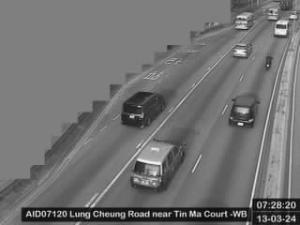bus: (235, 12, 255, 30), (270, 8, 278, 20)
motorbike: (265, 55, 273, 69)
vehicle: (130, 136, 186, 192), (120, 91, 166, 128), (228, 92, 260, 128), (231, 44, 252, 58), (274, 20, 290, 38), (290, 14, 298, 20)
